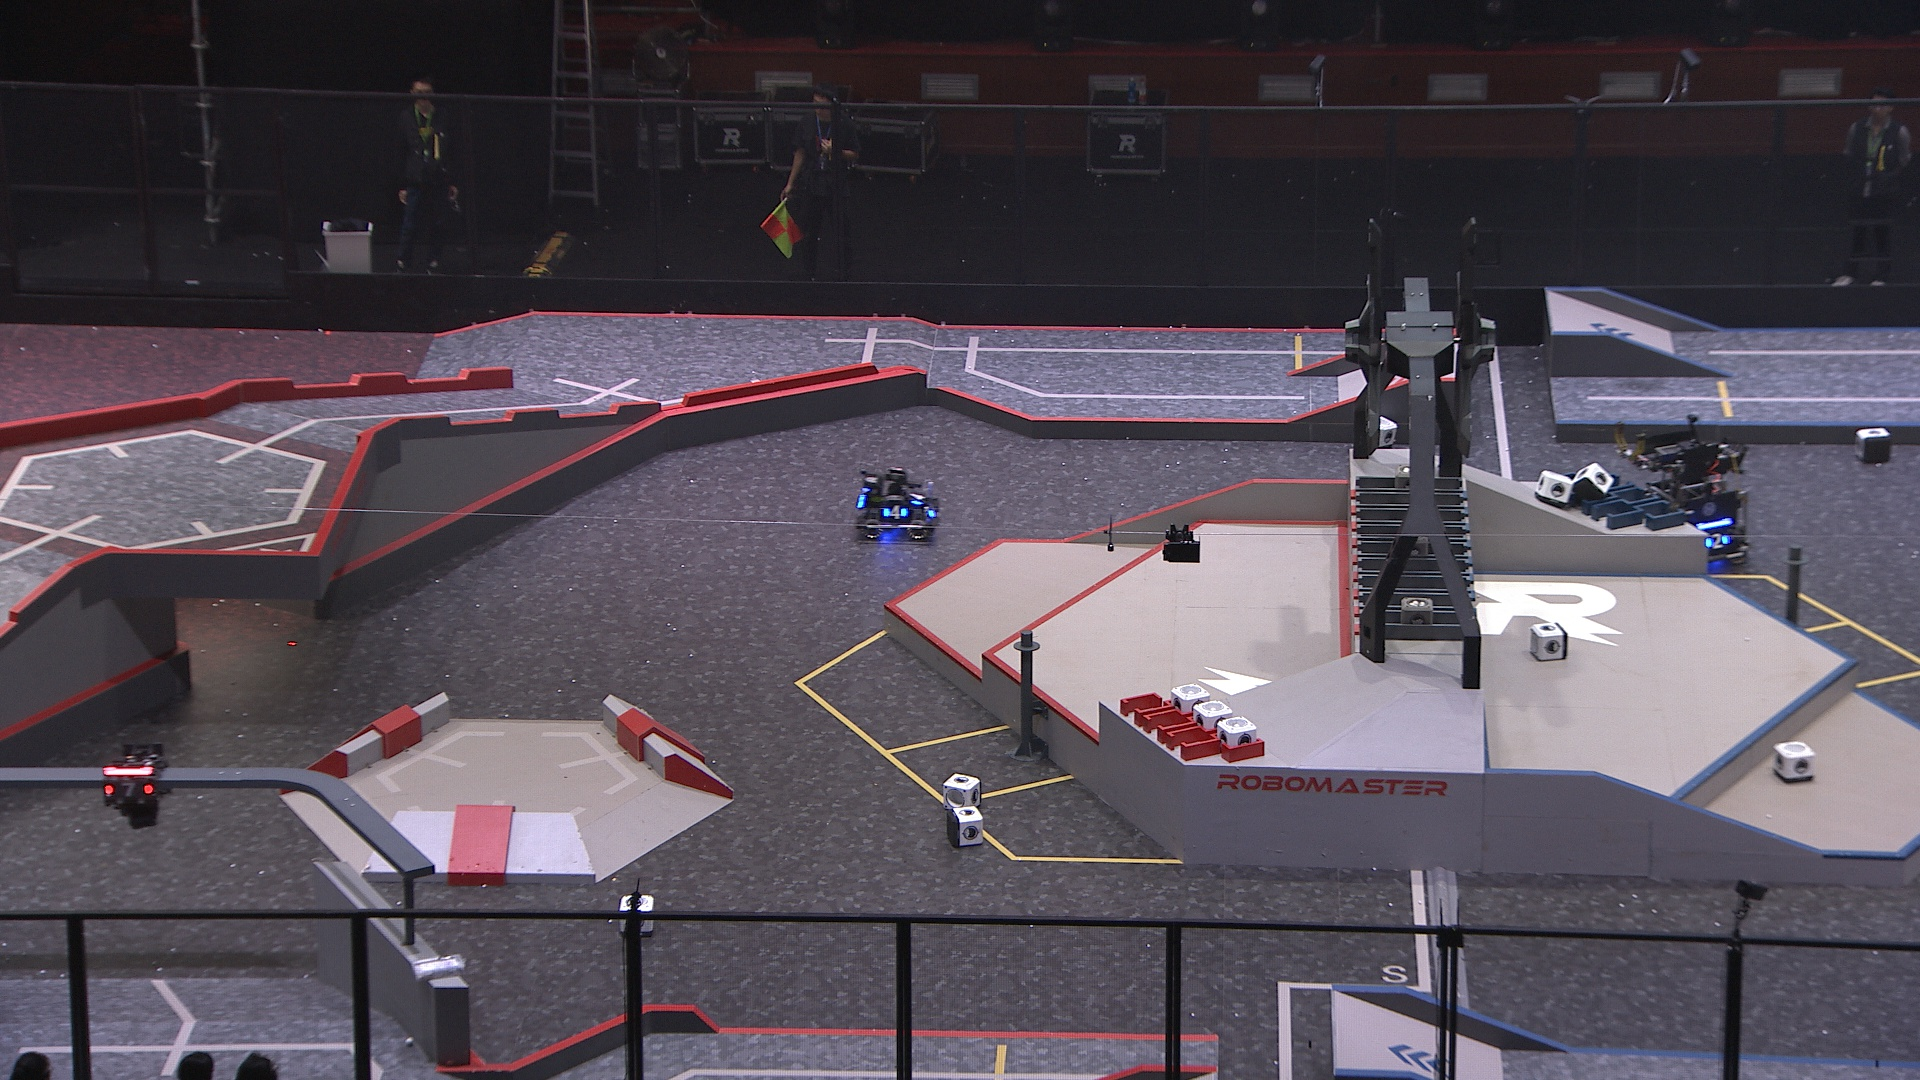armor: (105, 778, 154, 799), (1704, 531, 1731, 549), (884, 505, 910, 520), (910, 485, 927, 506)
car: (1619, 433, 1756, 567), (851, 465, 942, 542)
watcher: (102, 741, 169, 828)
